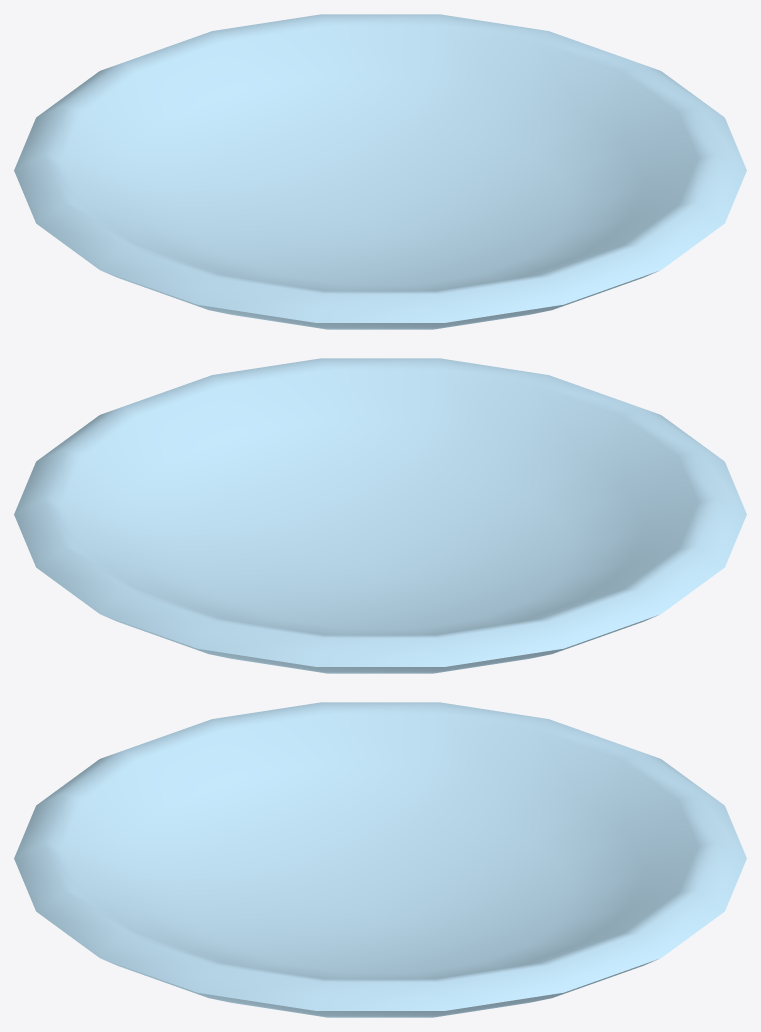
The model's file is Environment_Plate.fbx.
3 views of the same model, one above another, from view 1: azimuth 30°, elevation 25°; view 2: azimuth 150°, elevation 25°; view 3: azimuth 270°, elevation 25° (orthographic).
Parts seen in each view (by area): view 1: Environment_Plate; view 2: Environment_Plate; view 3: Environment_Plate.
Boxes of the visible parts, <box> form: Environment_Plate: <box>14,14,746,329</box>; Environment_Plate: <box>14,358,746,673</box>; Environment_Plate: <box>14,702,746,1017</box>.
Bounding box in the file's own units: 100 × 14.79 × 102.
